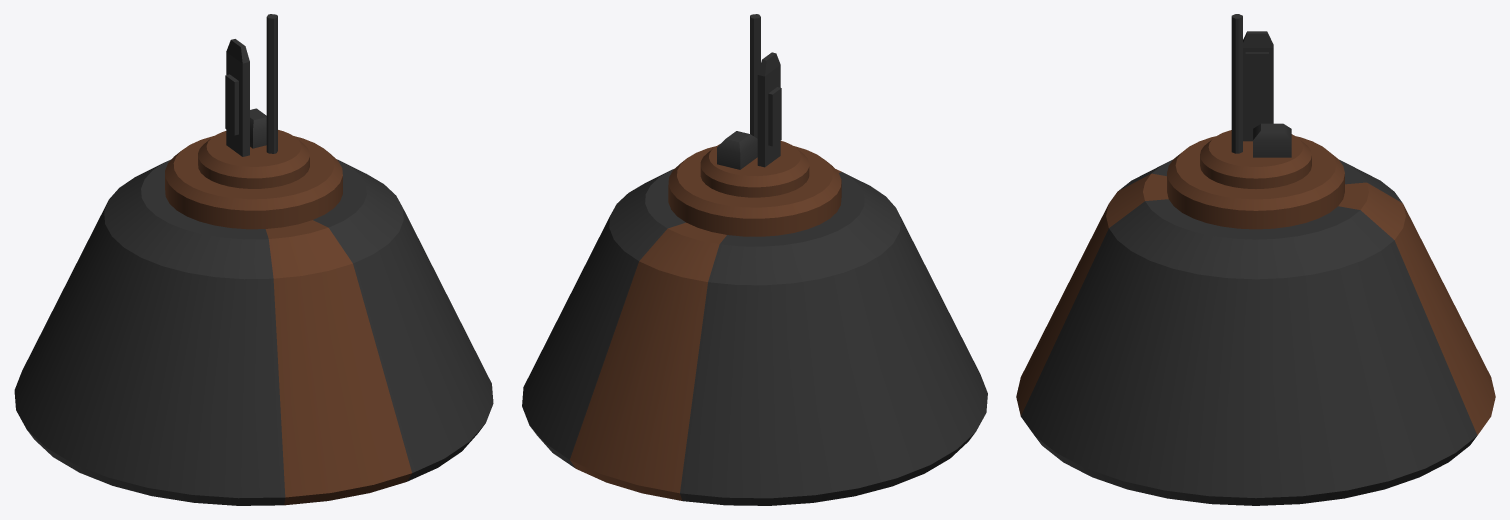
Rendered from SpaceMine.fbx.
3 renders of one model, left to right at view 1: azimuth 30°, elevation 25°; view 2: azimuth 150°, elevation 25°; view 3: azimuth 270°, elevation 25°, orthographic. The views are drawn at different scales.
Parts seen in each view (by area): view 1: Circle; view 2: Circle; view 3: Circle.
Boxes of the visible parts, x1,y1,x2,y2 form: Circle: (14, 14, 493, 505); Circle: (522, 14, 987, 505); Circle: (1016, 14, 1495, 505).
Size of the model in its own units: 309 by 302 by 309.
